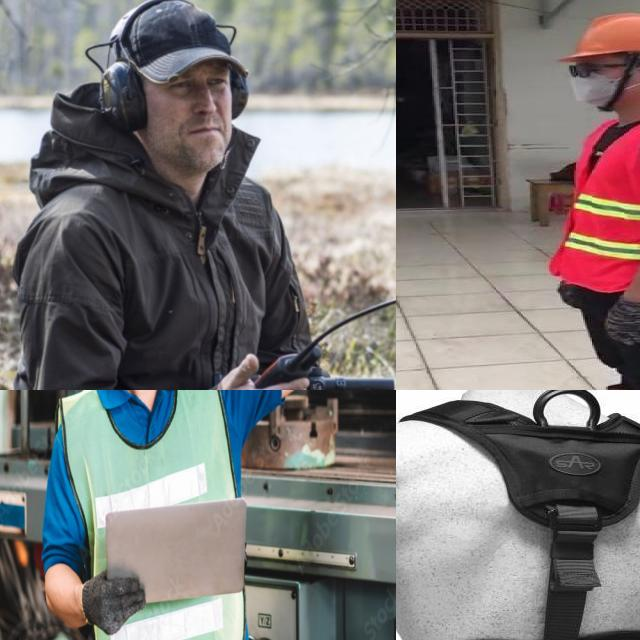Ear-protection: (77, 0, 268, 180)
Harness: (402, 390, 640, 640)
No_Glasses: (165, 64, 233, 100)
head_helmet: (560, 11, 640, 61)
person: (525, 7, 640, 390)
vest: (554, 116, 640, 290)
